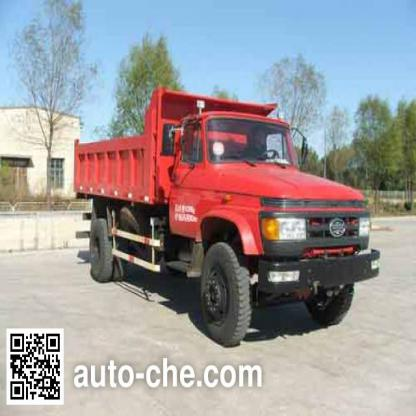normal-truck: (72, 86, 374, 339)
